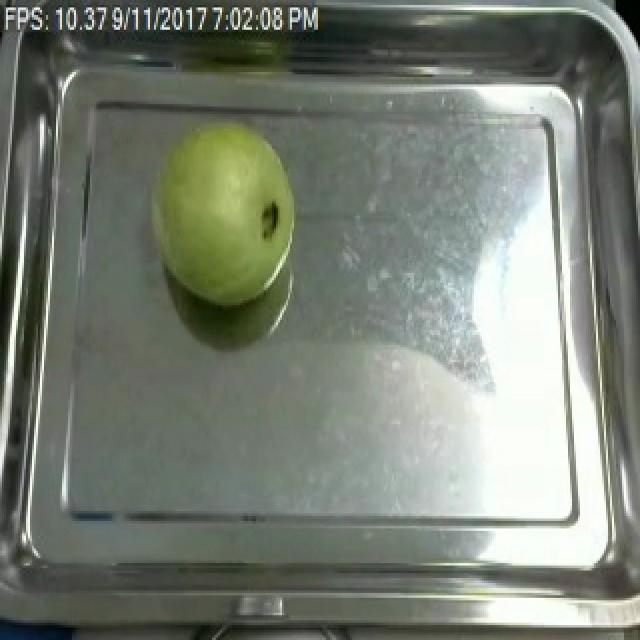Fruit: (138, 112, 306, 315)
